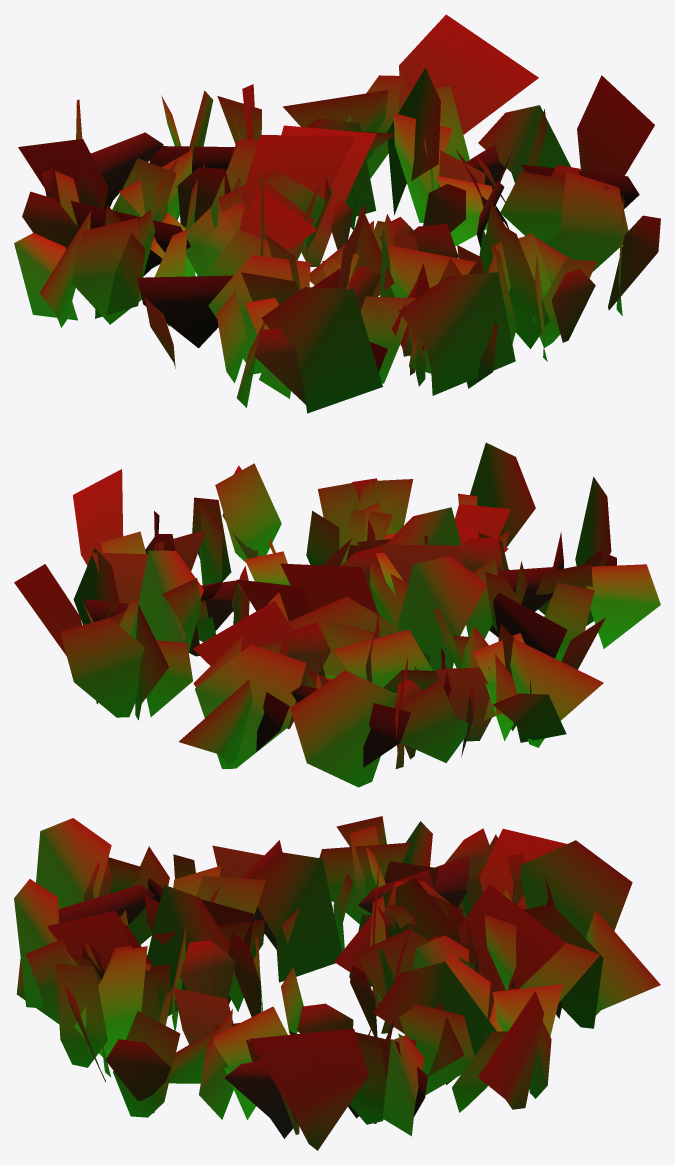
The model's file is Grass Clumps_LOD1_Var3_rbojr.fbx.
3 renders of one model, top to bottom at view 1: azimuth 30°, elevation 25°; view 2: azimuth 150°, elevation 25°; view 3: azimuth 270°, elevation 25°, orthographic. The views are drawn at different scales.
Parts seen in each view (by area): view 1: _1115_Var3_LOD1; view 2: _1115_Var3_LOD1; view 3: _1115_Var3_LOD1.
Boxes of the visible parts, x1,y1,x2,y2 form: _1115_Var3_LOD1: (14, 14, 660, 413); _1115_Var3_LOD1: (14, 442, 660, 787); _1115_Var3_LOD1: (14, 816, 660, 1150).
Bounding box in the file's own units: 84.72 × 21.78 × 84.85.
